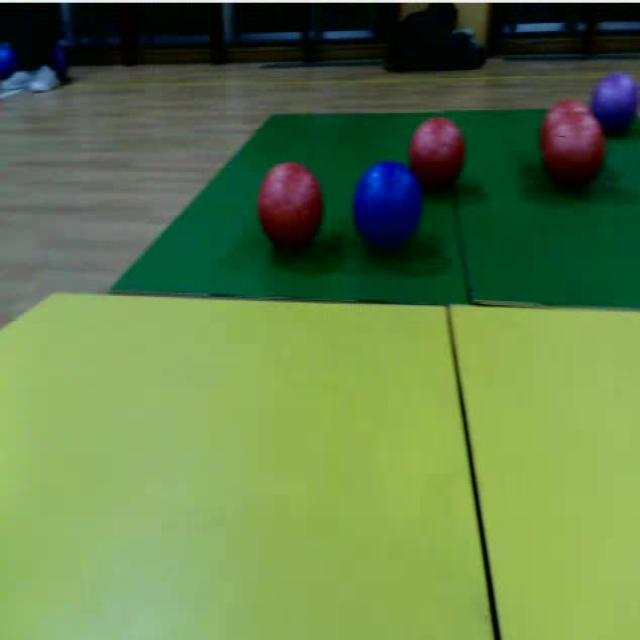blue_ball: (350, 159, 429, 259), (589, 64, 640, 150), (0, 40, 20, 82)
red_ball: (256, 157, 329, 268), (538, 108, 610, 196), (412, 112, 469, 199), (544, 90, 594, 168)
